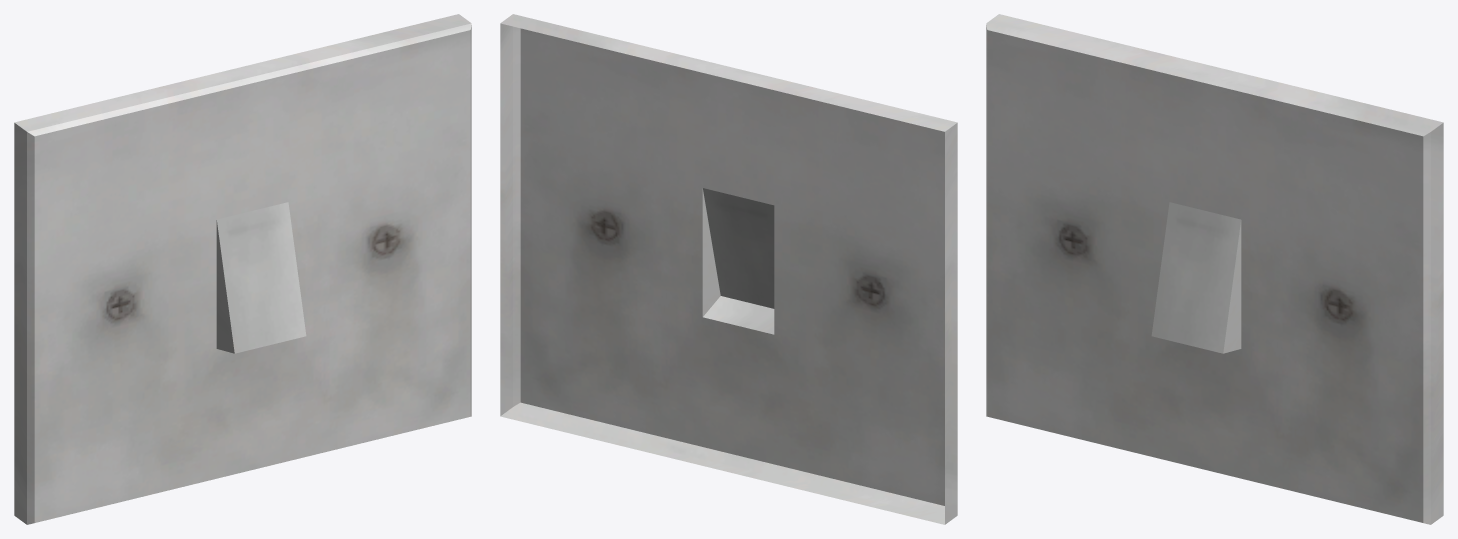
The model's file is lightSwitch01.FBX.
3 views of the same model, side by side, from view 1: azimuth 30°, elevation 25°; view 2: azimuth 150°, elevation 25°; view 3: azimuth 330°, elevation 25° (orthographic).
Visible parts, largest first — view 1: SM_LightSwitch01; view 2: SM_LightSwitch01; view 3: SM_LightSwitch01.
Boxes of the visible parts, x1=… form: SM_LightSwitch01: x1=14, y1=14, x2=471, y2=524; SM_LightSwitch01: x1=500, y1=14, x2=957, y2=524; SM_LightSwitch01: x1=986, y1=14, x2=1443, y2=524.
Size of the model in its own units: 12.93 by 10.93 by 1.71.
1 material, 1 textured.
